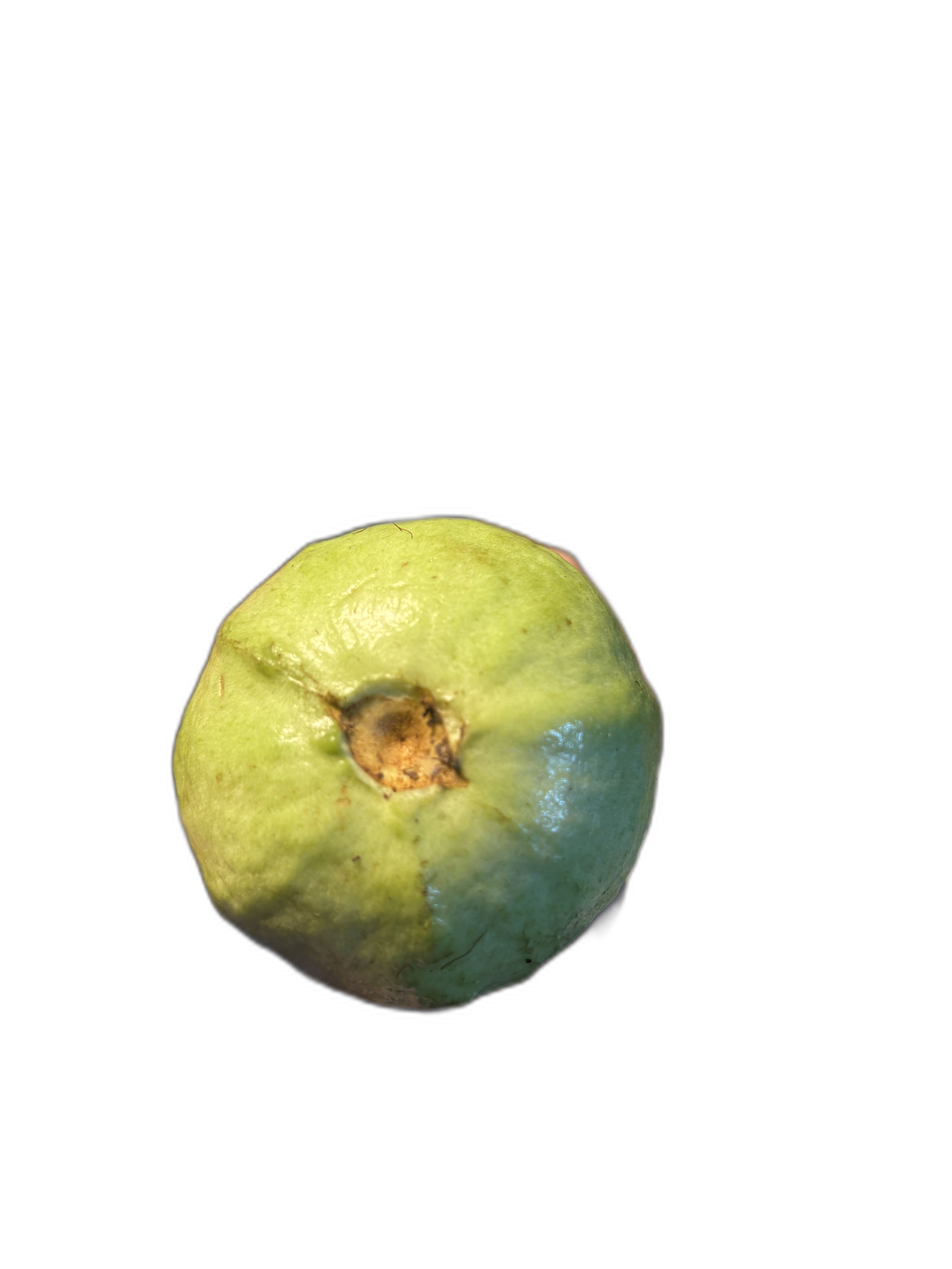guava: (5, 272, 854, 1076)
